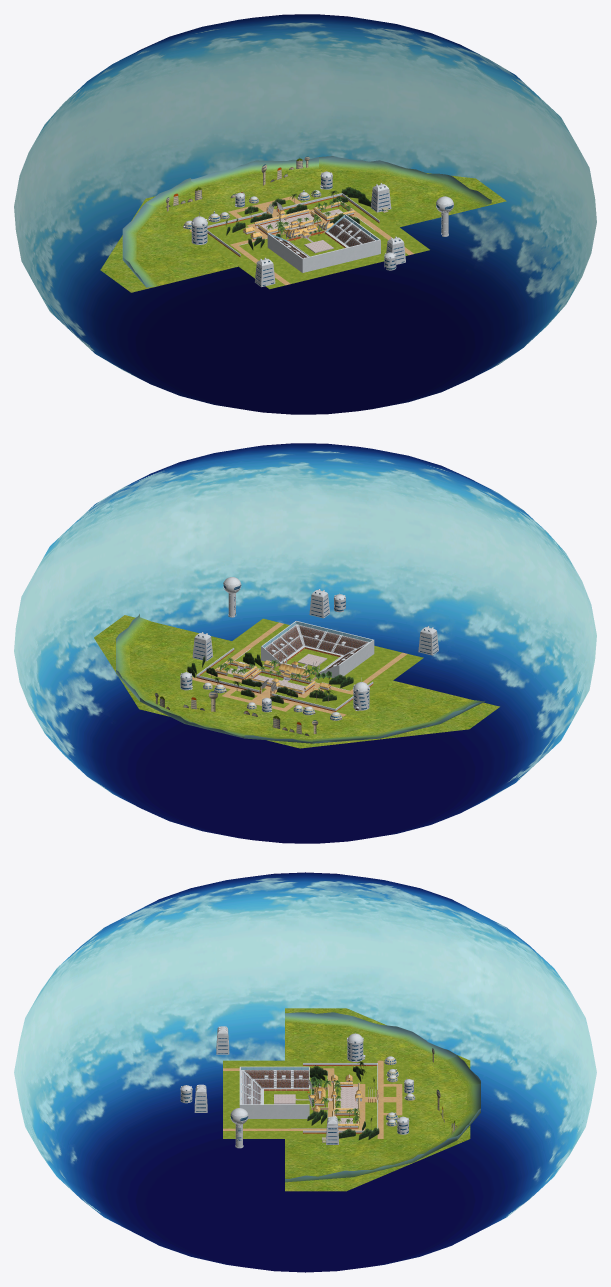
Rendered from stage.glb.
3 renders of one model, top to bottom at view 1: azimuth 30°, elevation 25°; view 2: azimuth 150°, elevation 25°; view 3: azimuth 270°, elevation 25°, orthographic.
Visible parts, largest first — view 1: KORE_export_World Tournament_mesh; view 2: KORE_export_World Tournament_mesh; view 3: KORE_export_World Tournament_mesh.
Boxes of the visible parts, x1=… form: KORE_export_World Tournament_mesh: x1=14, y1=14, x2=596, y2=414; KORE_export_World Tournament_mesh: x1=14, y1=443, x2=596, y2=843; KORE_export_World Tournament_mesh: x1=14, y1=872, x2=596, y2=1272.
Bounding box in the file's own units: 44.64 × 26.74 × 44.64.
58 materials, 57 textured.
